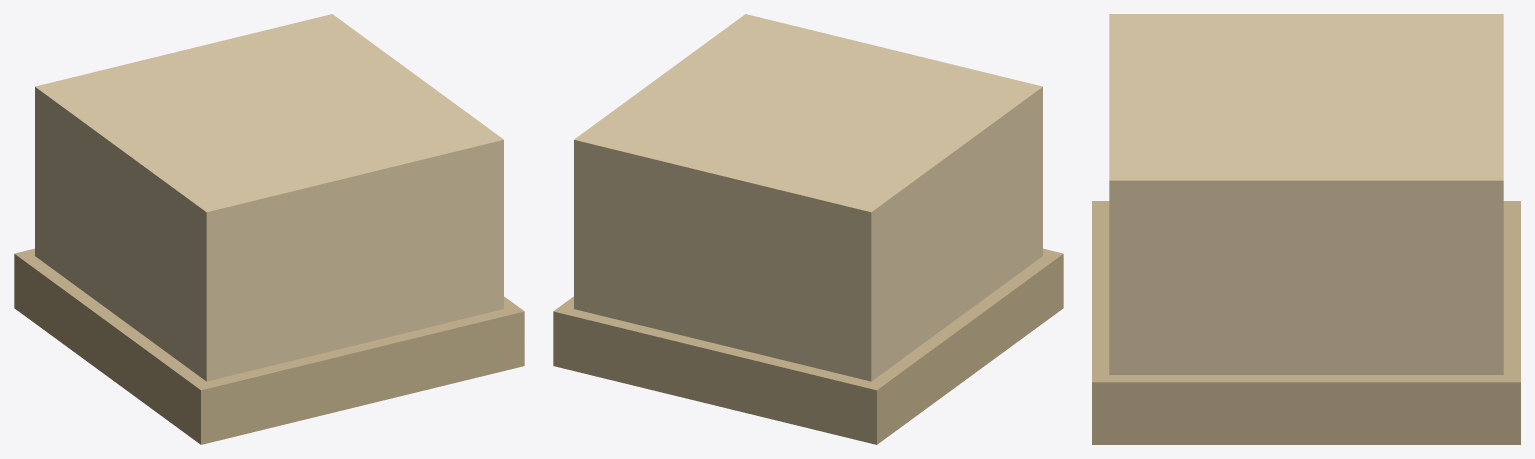
The model's file is cacafantasma_manga_inf.glb.
3 renders of one model, left to right at view 1: azimuth 30°, elevation 25°; view 2: azimuth 150°, elevation 25°; view 3: azimuth 270°, elevation 25°, orthographic. The views are drawn at different scales.
Visible parts, largest first — view 1: cacafantasma_manga_inf; view 2: cacafantasma_manga_inf; view 3: cacafantasma_manga_inf.
Part boxes in pixels (<box>): cacafantasma_manga_inf: <box>14,14,524,444</box>; cacafantasma_manga_inf: <box>553,14,1063,444</box>; cacafantasma_manga_inf: <box>1092,14,1520,444</box>.
Size of the model in its own units: 0.31 by 0.21 by 0.31.
